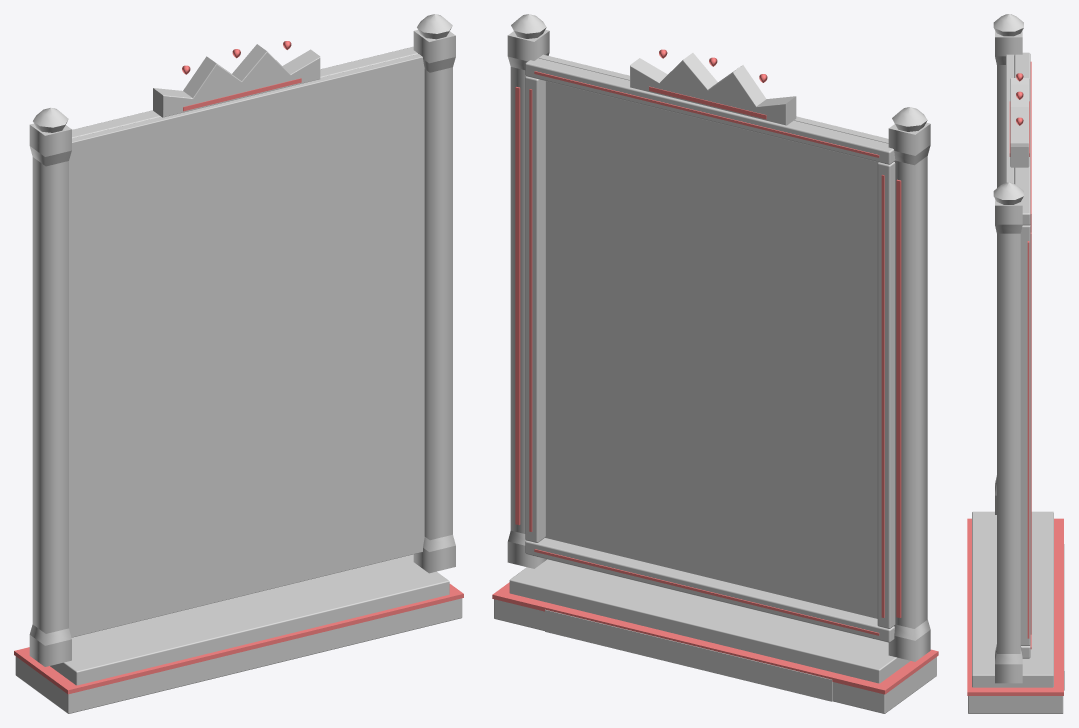
Rendered from HallBoard.glb.
3 renders of one model, left to right at view 1: azimuth 30°, elevation 25°; view 2: azimuth 150°, elevation 25°; view 3: azimuth 270°, elevation 25°, orthographic. The views are drawn at different scales.
Parts seen in each view (by area): view 1: Body, Glow; view 2: Body, Glow; view 3: Body, Glow.
Part boxes in pixels (x1,y1,x2,y2): Body: (15, 14, 462, 713); Glow: (14, 41, 463, 694); Body: (494, 14, 936, 713); Glow: (492, 49, 938, 694); Body: (968, 14, 1064, 713); Glow: (967, 61, 1063, 695).
Bounding box in the file's own units: 31.42 × 43.32 × 7.15.
